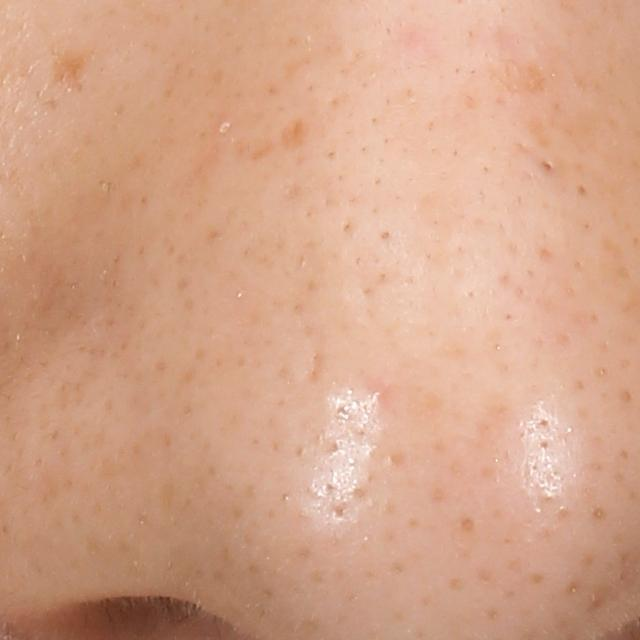atrophic_scar: (304, 350, 326, 382)
comedo: (536, 156, 562, 178)
melasma: (47, 46, 98, 91)
